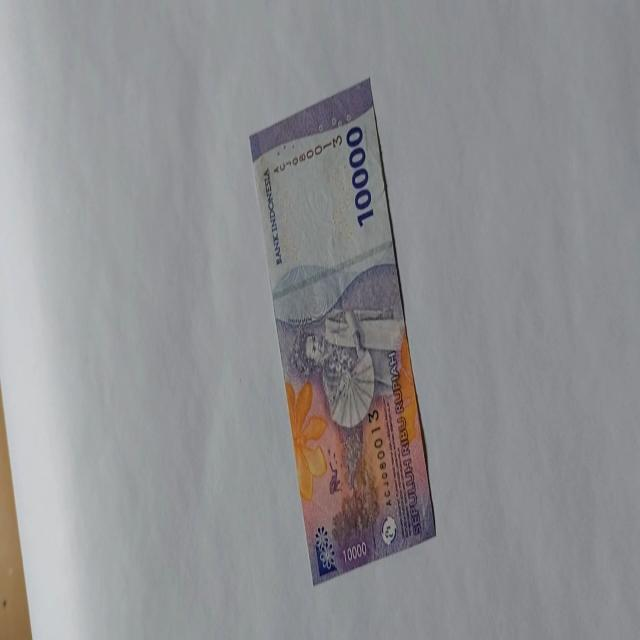sepuluh ribu rupiah: (248, 76, 436, 586)
